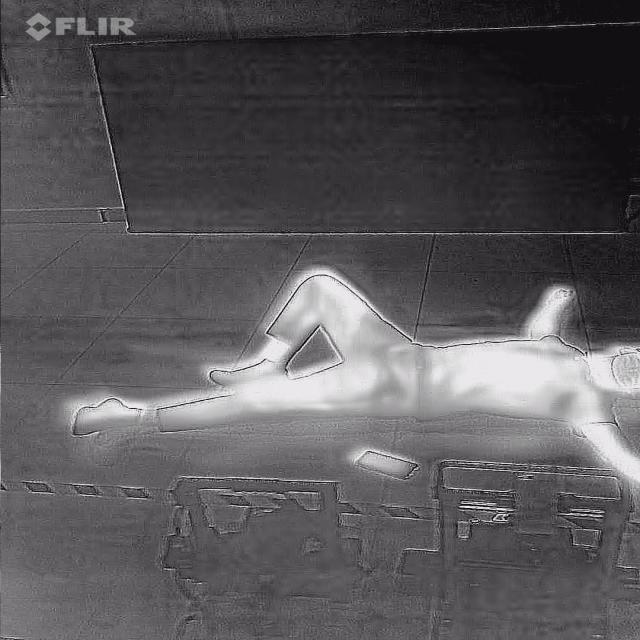Victim: (64, 262, 639, 508)
